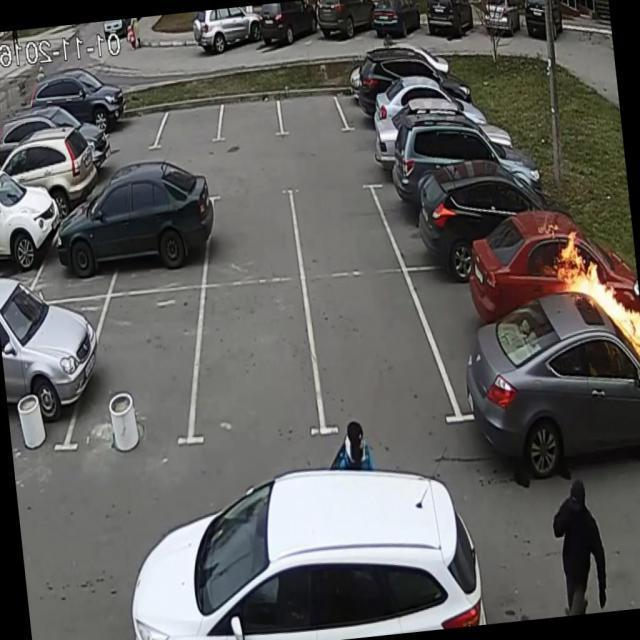car: (70, 269, 206, 468), (427, 245, 552, 417), (0, 290, 93, 476), (114, 180, 209, 291), (384, 164, 489, 264), (40, 182, 120, 286), (342, 72, 409, 139), (99, 96, 162, 155)
free: (310, 262, 444, 446), (202, 275, 318, 442), (208, 177, 302, 294), (292, 178, 389, 276), (218, 87, 283, 149), (278, 89, 348, 144), (158, 98, 226, 154)
